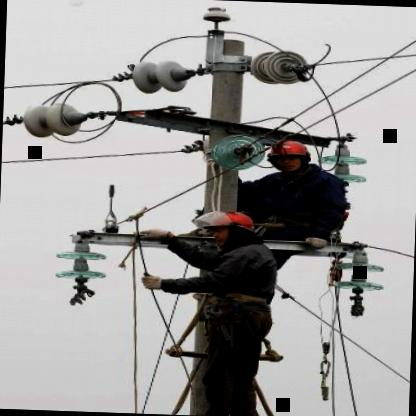helmet: (204, 212, 256, 245), (269, 140, 314, 172)
